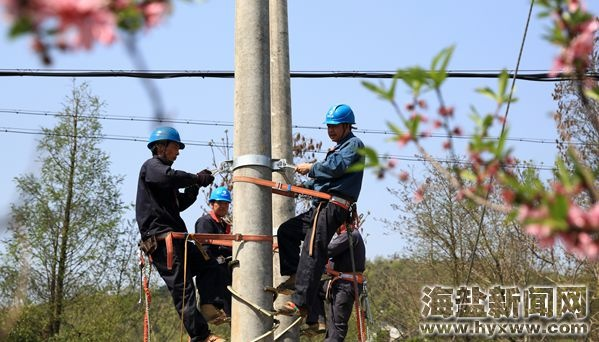blue: (144, 126, 185, 164), (324, 102, 355, 141), (206, 186, 233, 217)
